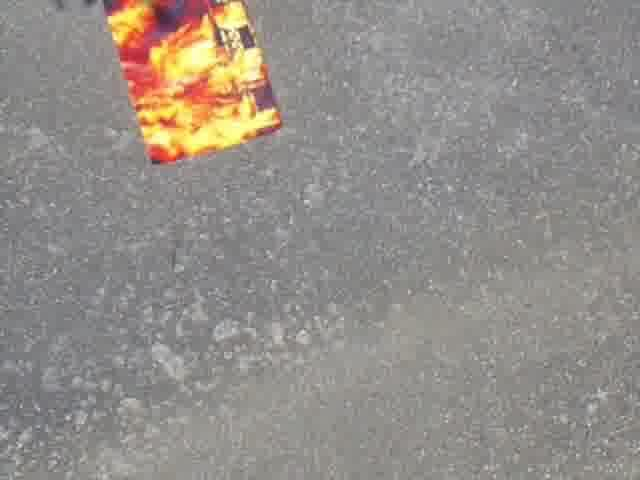fire-poster: (103, 0, 283, 166)
